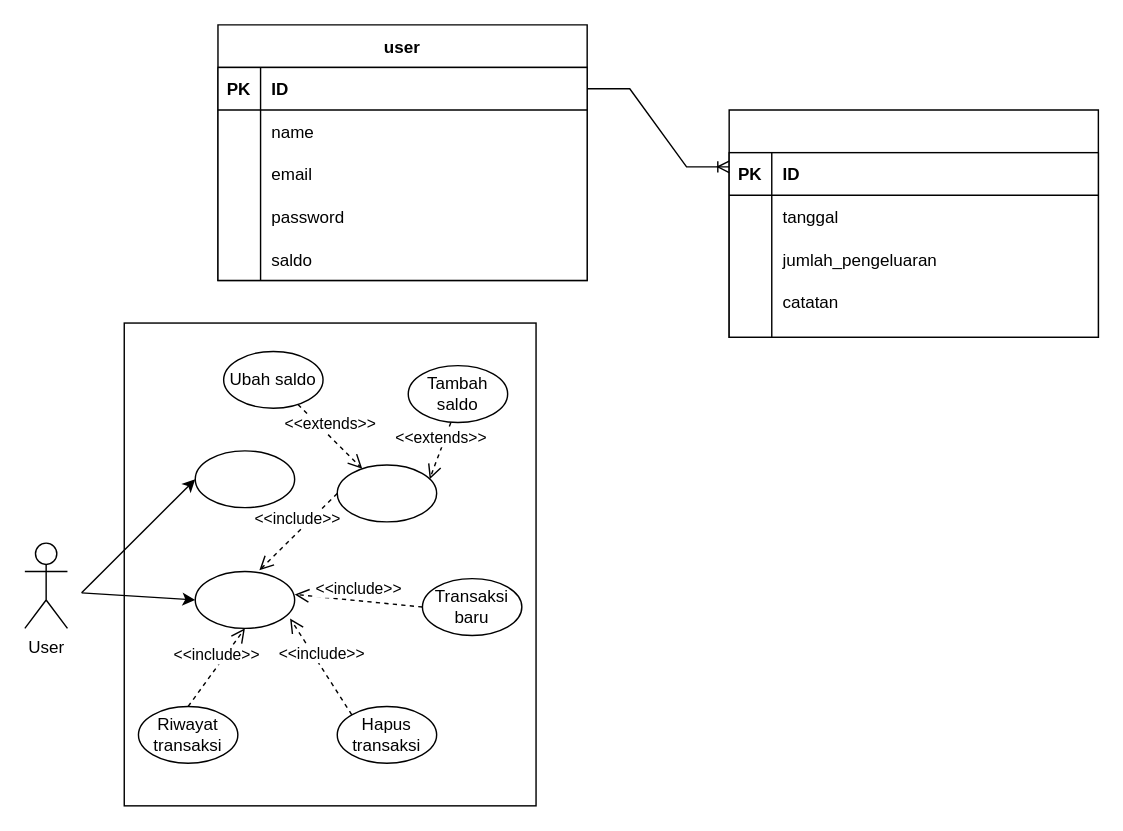
Some shapes in this 1123 by 831 pixel diagram are drawn without their labels. Each missing label, with the box of its shape:
Lihat saldo: (336, 464, 437, 522)
Login: (194, 570, 295, 628)
Register: (194, 449, 295, 508)
transaksi_pengeluaran: (728, 109, 1098, 337)
